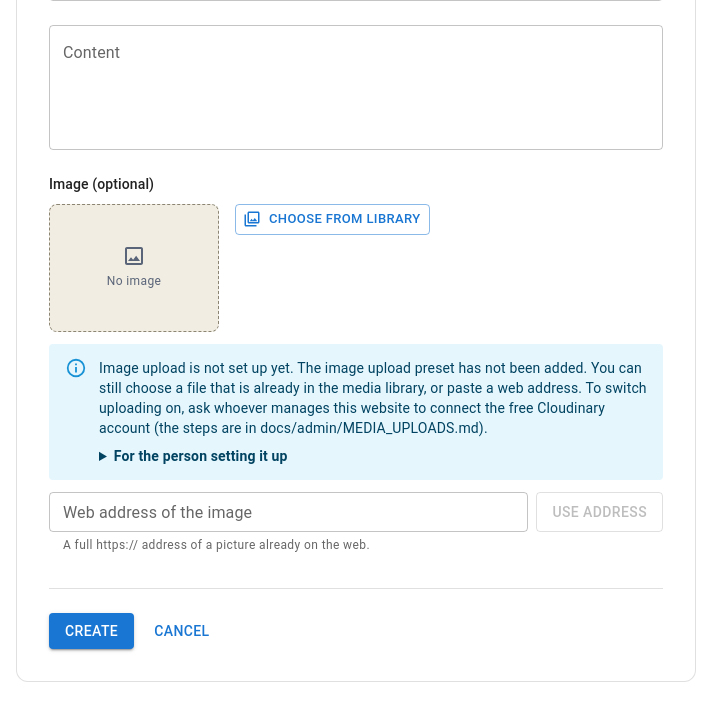
Test: AnnouncementForm › shows validation errors and does not submit when title/content are empty
(page scrolled)
Click the button with test id "announcement-form-submit". click: (92, 631)
box: [49,613,134,650]
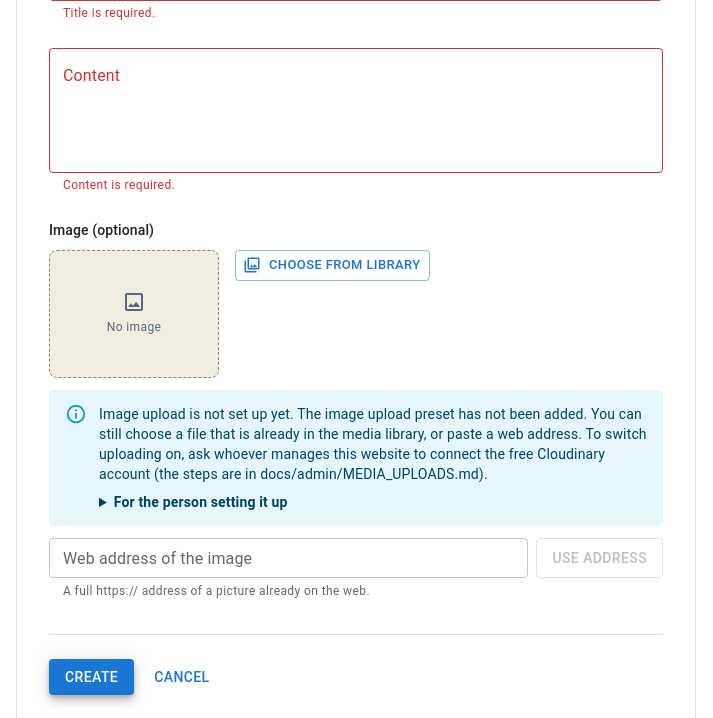
Result: the text "Title is required." is shown at [63,6,156,20]
Result: the text "Content is required." is shown at [63,178,175,192]
